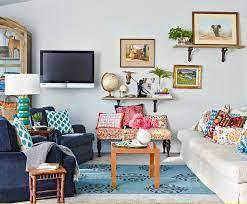TV: (38, 47, 100, 93)
chair: (0, 115, 80, 204), (29, 102, 97, 161)
light: (4, 73, 39, 129)
sofa: (177, 106, 247, 204), (96, 110, 174, 156)
table: (108, 141, 163, 190), (21, 163, 69, 204)
